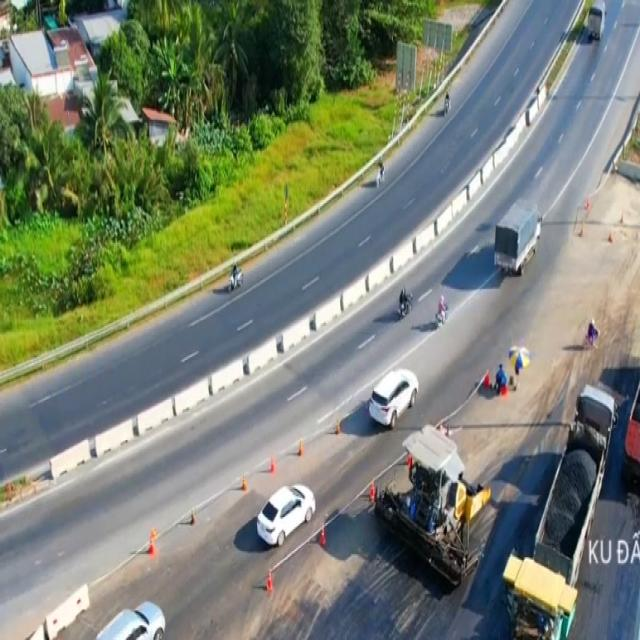car: (256, 480, 316, 554), (369, 364, 420, 429), (96, 600, 166, 640)
motorbike: (395, 282, 413, 320), (229, 262, 244, 294), (435, 296, 448, 328)
truck: (492, 198, 544, 279), (588, 0, 606, 45)
